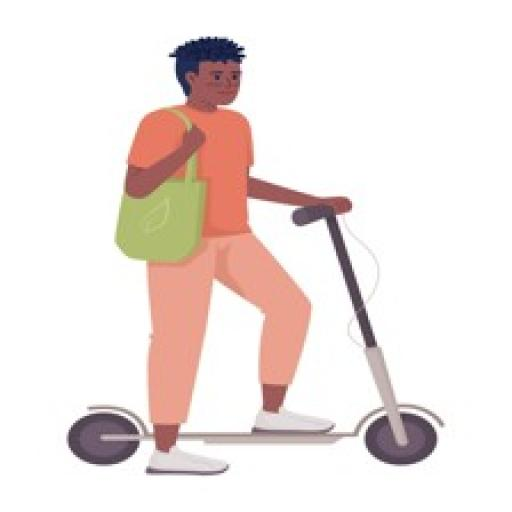human: (120, 27, 352, 484)
